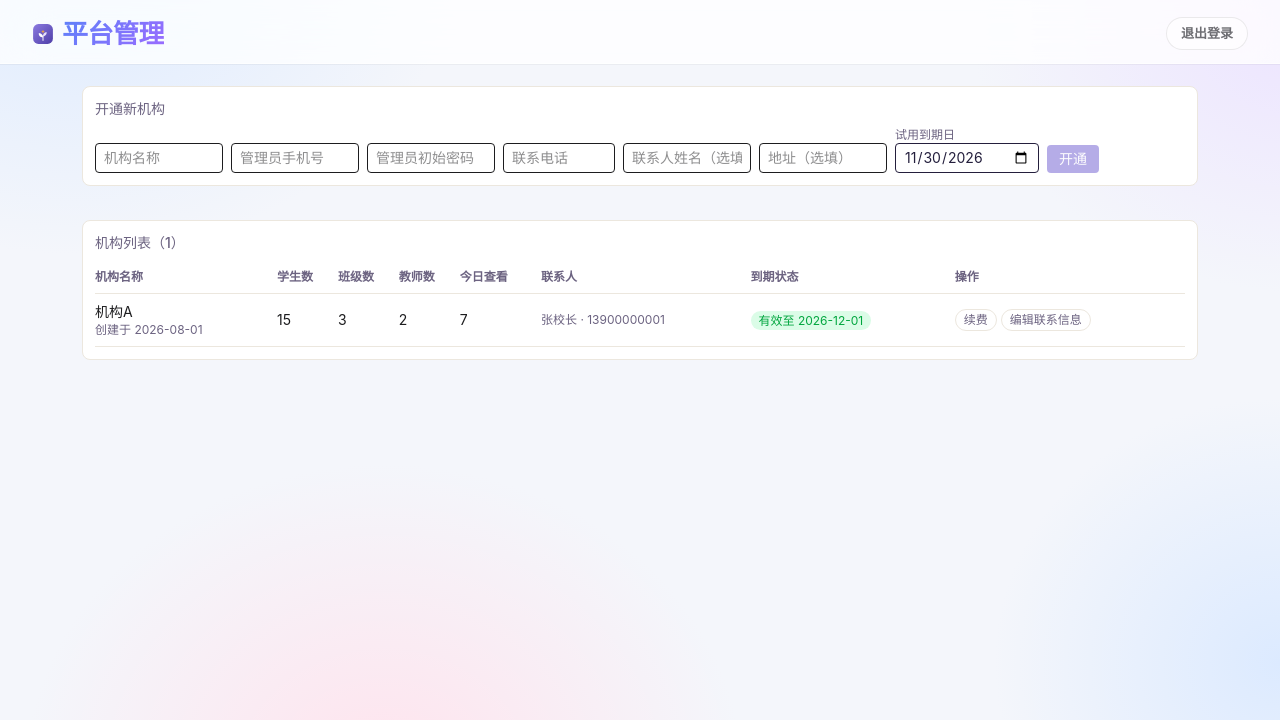
Test: PlatformAdminPage › creates an institution with contact info and trial date, and shows the one-time password banner
Expected: the text "机构A" is shown, [95,303,133,320]
Type "机构B" into the field with placeholder "机构名称" at (159, 158), box [95,143,223,173]
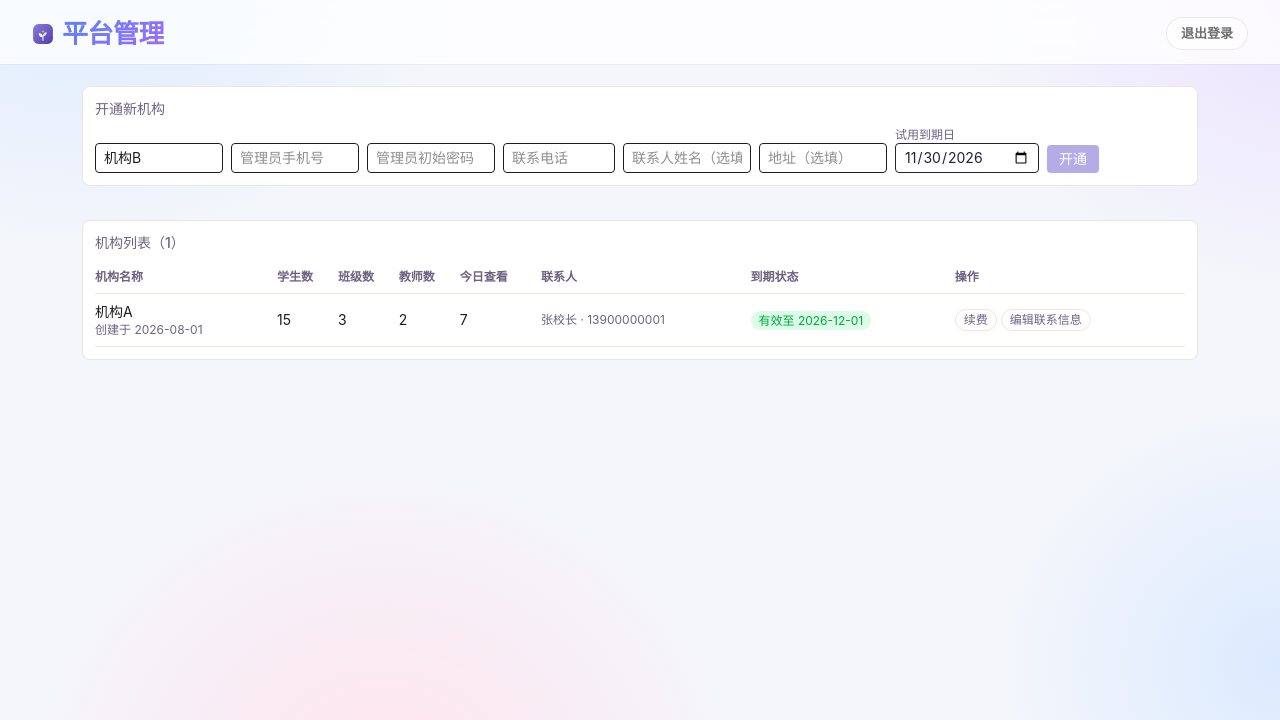
Type "13700000002" into the field with placeholder "管理员手机号" at (295, 158), box [231,143,359,173]
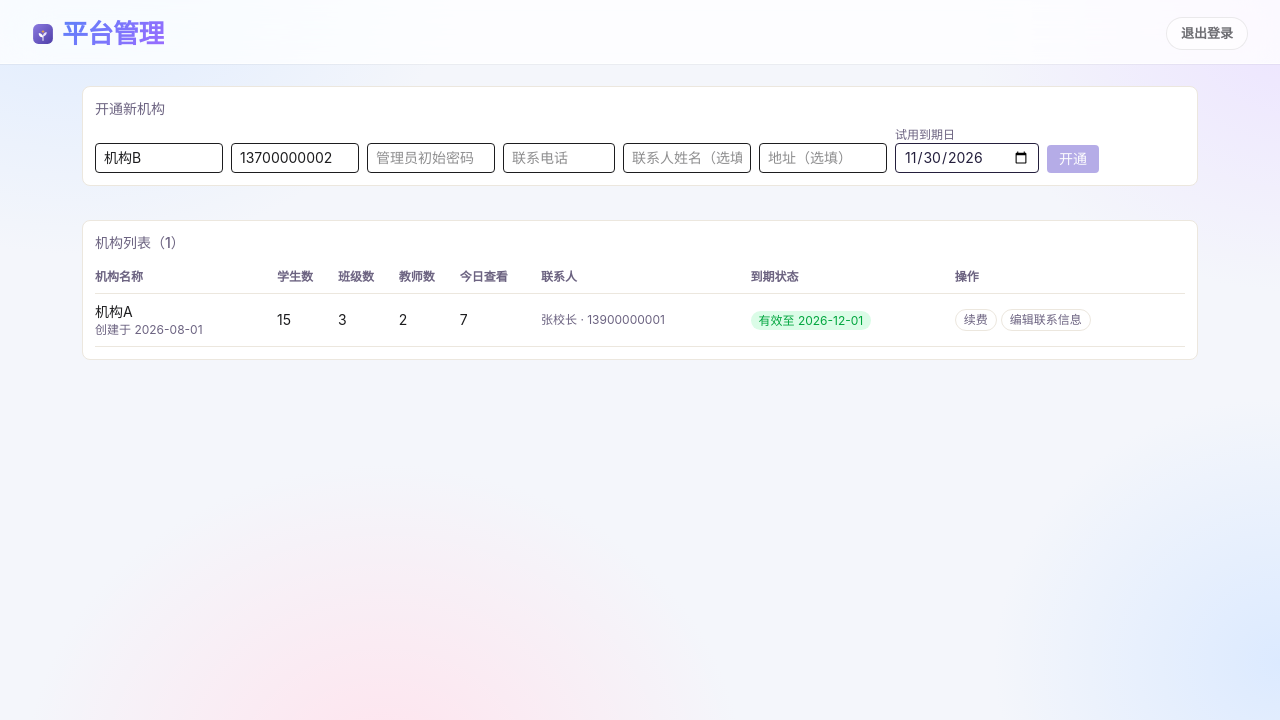
Type "initial123" into the field with placeholder "管理员初始密码" at (431, 158), box [367,143,495,173]
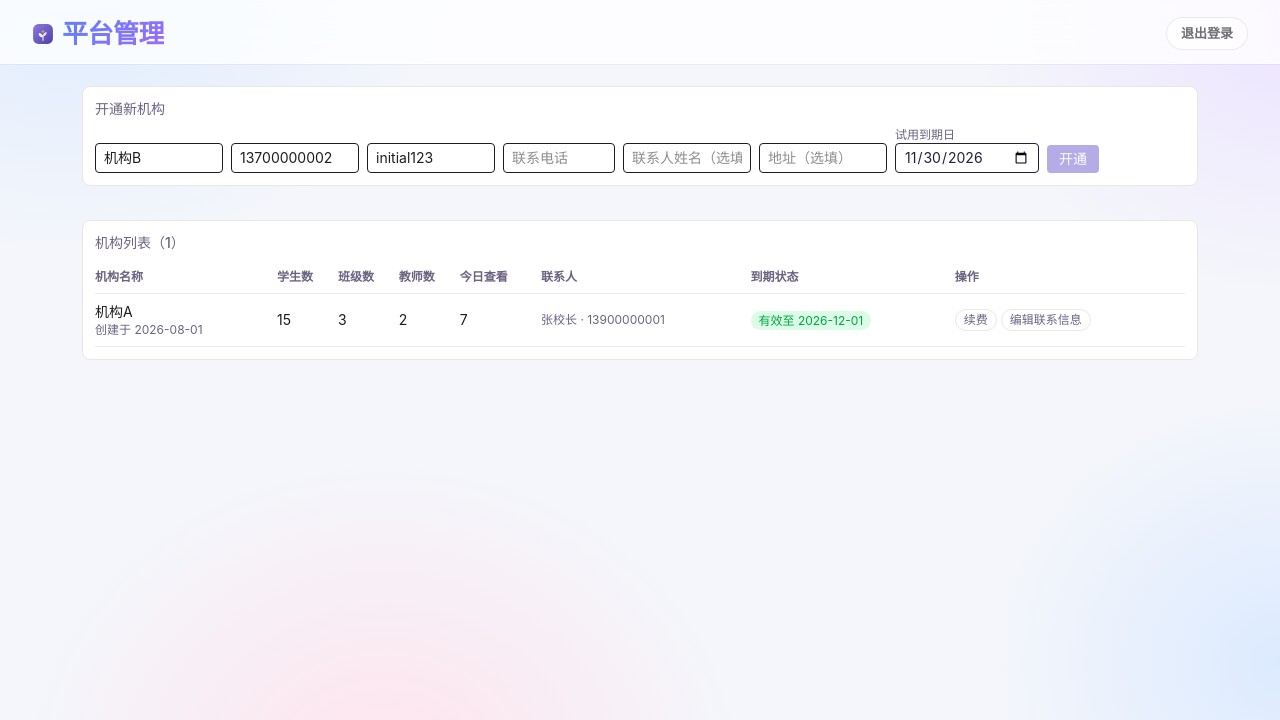
Type "13900000002" into the field with placeholder "联系电话" at (559, 158), box [503,143,615,173]
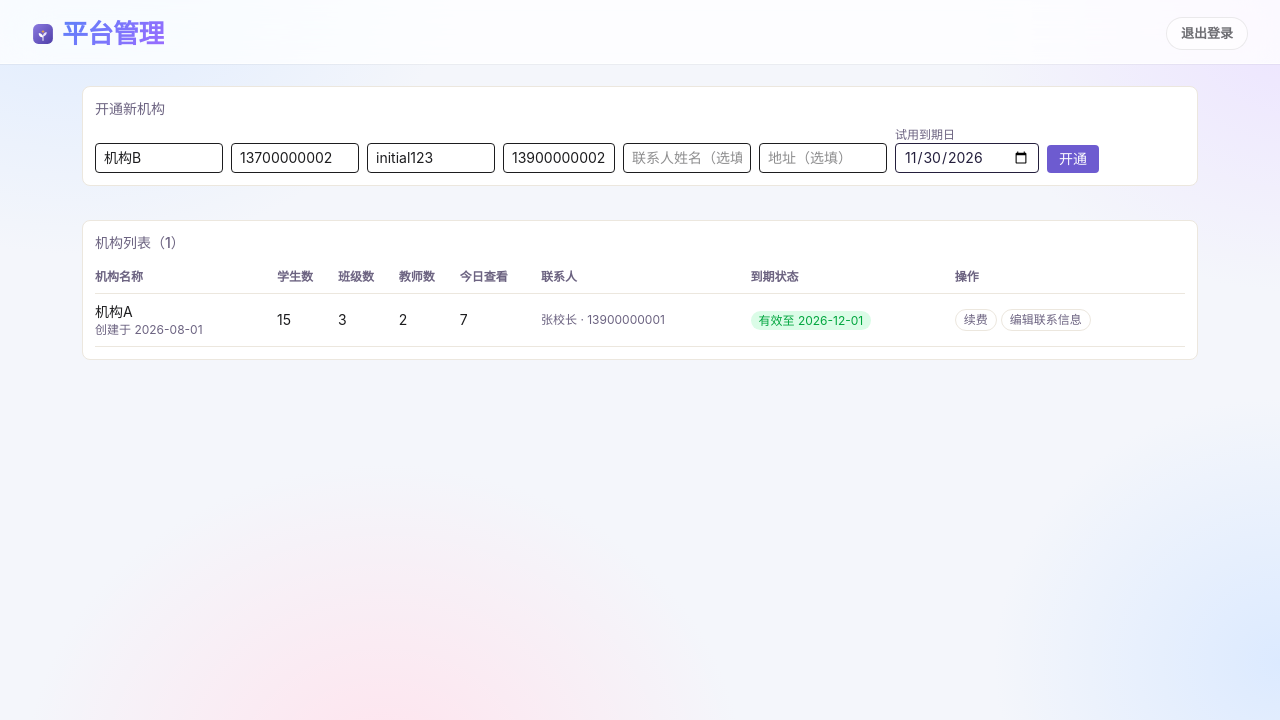
Type "2026-12-31" into the date field labelled "试用到期日" at (967, 158), box [895,143,1039,173]
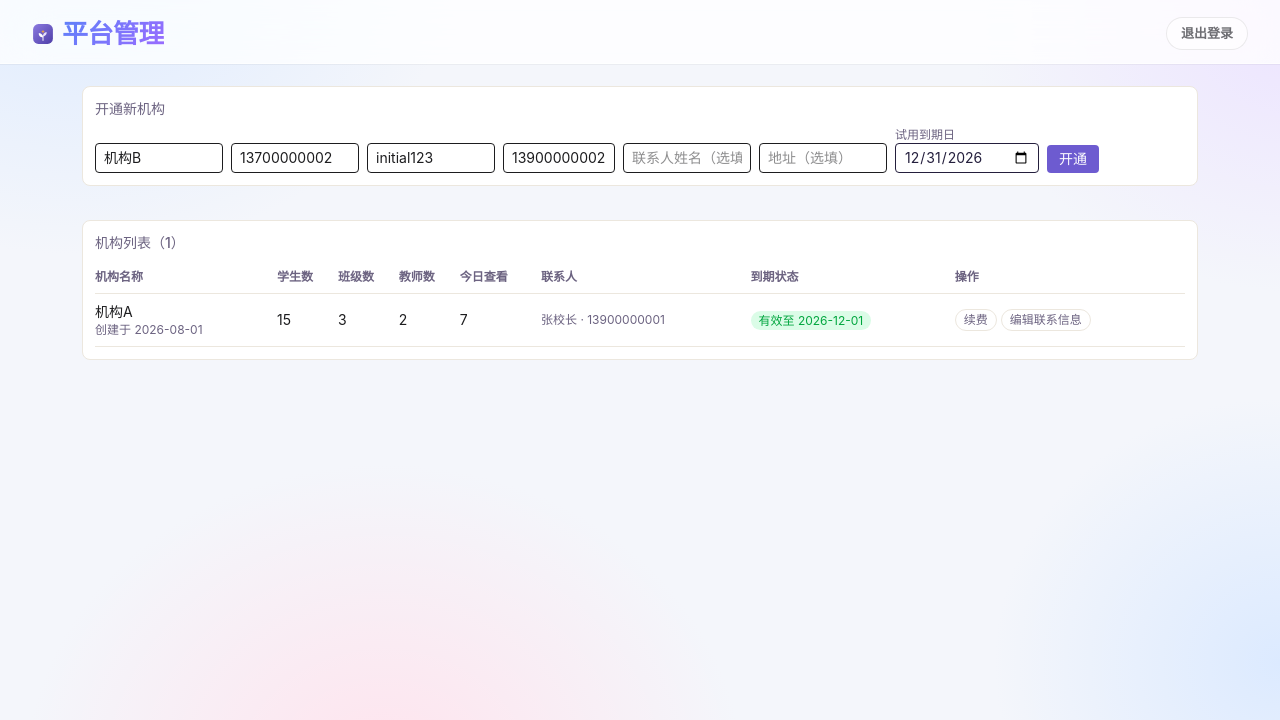
Click the button "开通" at (1073, 159), box [1047,145,1099,173]
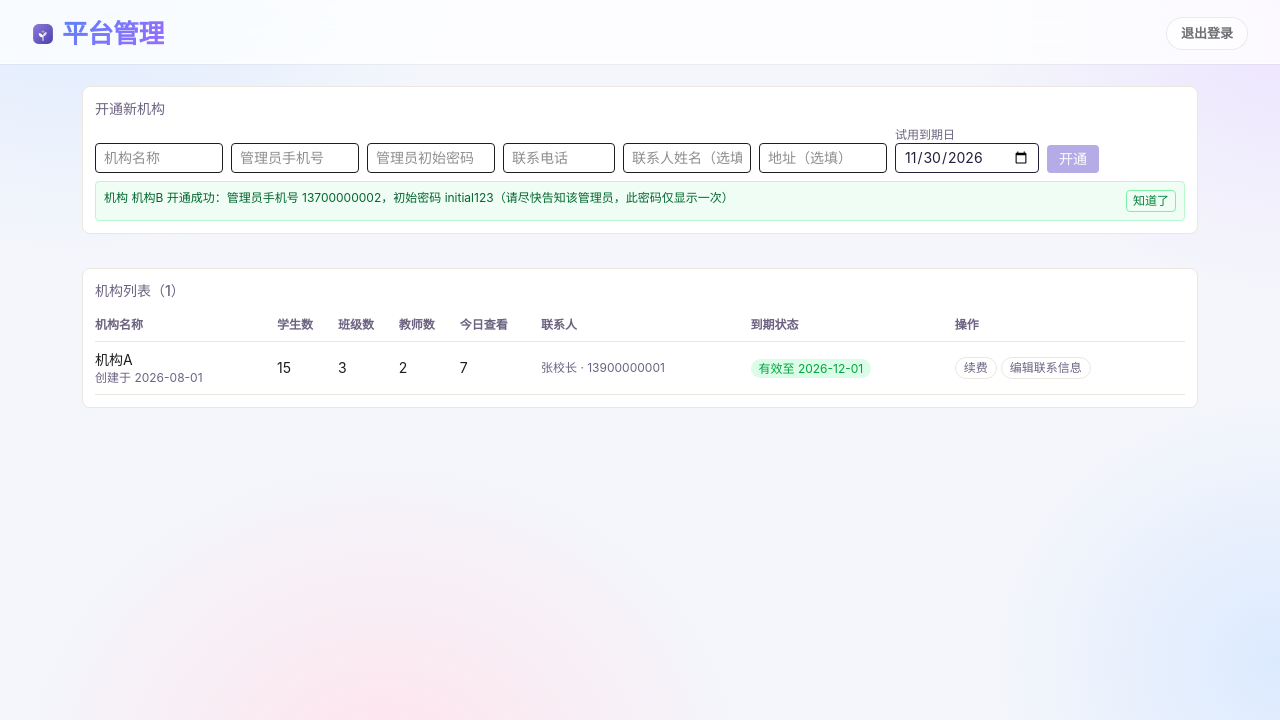
Now the text "初始密码 initial123" is shown, box [104,190,734,206]
